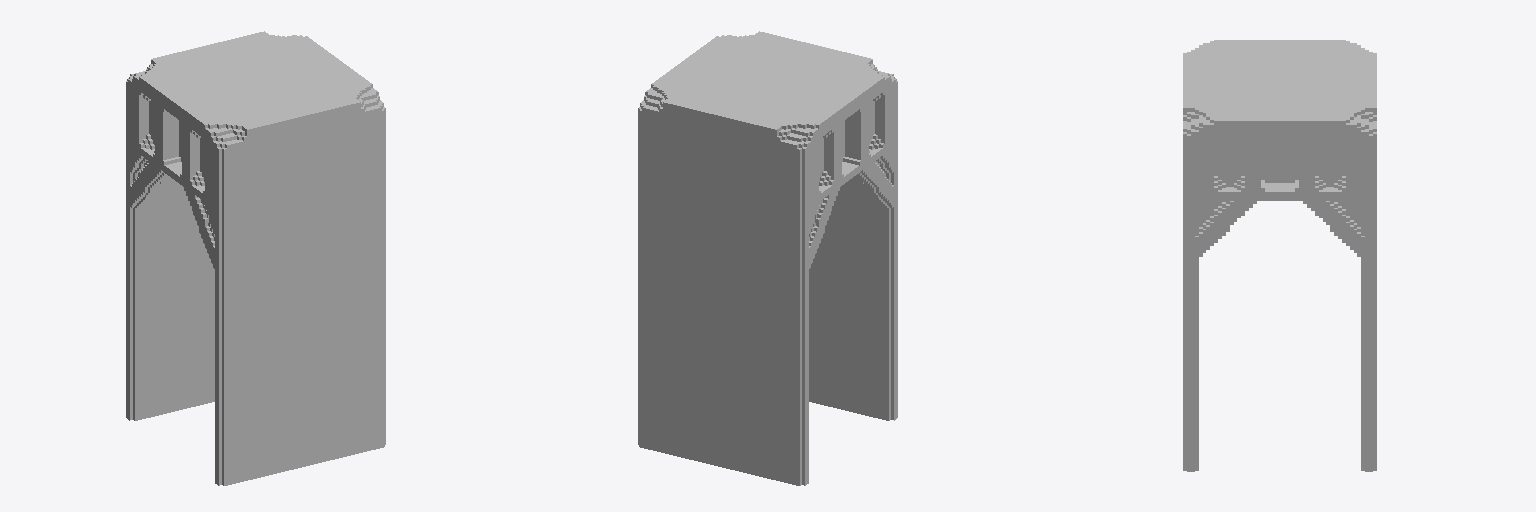
File: 128( дверь открыта и без руны в нутри ).obj
3 views of the same model, side by side, from view 1: azimuth 30°, elevation 25°; view 2: azimuth 150°, elevation 25°; view 3: azimuth 270°, elevation 25° (orthographic).
Visible parts, largest first — view 1: object 1; view 2: object 1; view 3: object 1.
Boxes of the visible parts, box(x1,y1,x2,y2) form: object 1: box(126, 31, 385, 485); object 1: box(638, 31, 897, 485); object 1: box(1183, 40, 1376, 471).
Bounding box in the file's own units: 5 × 10 × 5.